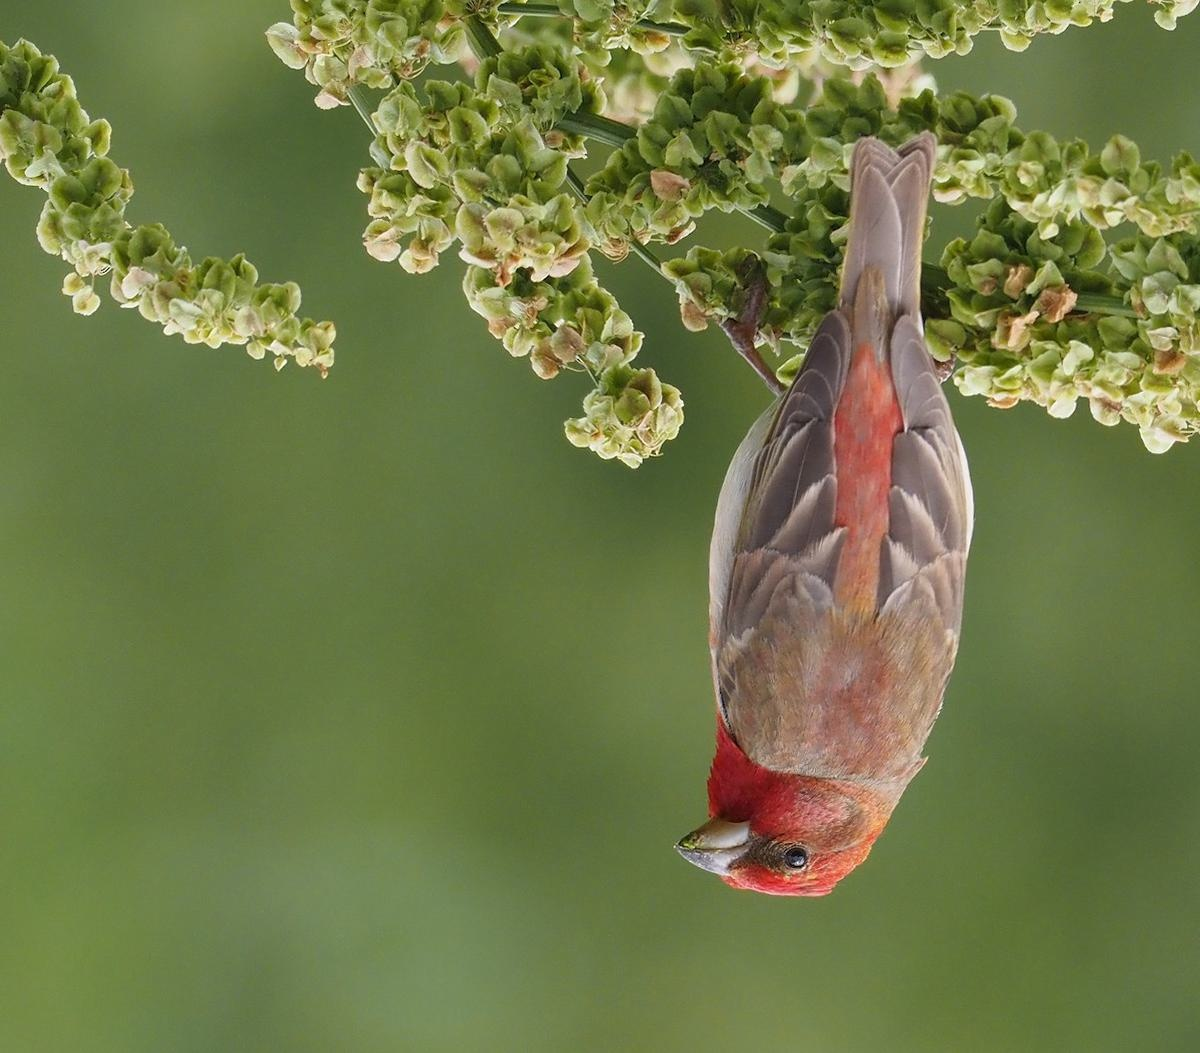rosefinch: (679, 140, 970, 918)
